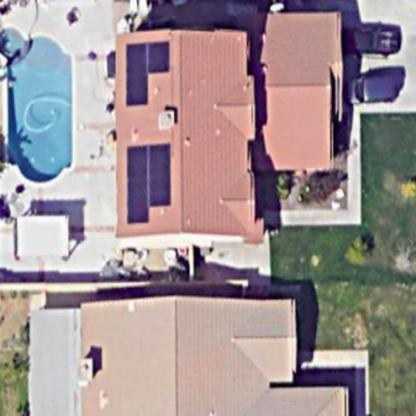car: (348, 67, 406, 111), (340, 20, 401, 58)
solar_panel: (122, 137, 176, 228), (124, 37, 175, 112)
swimming_pool: (1, 22, 92, 185)
